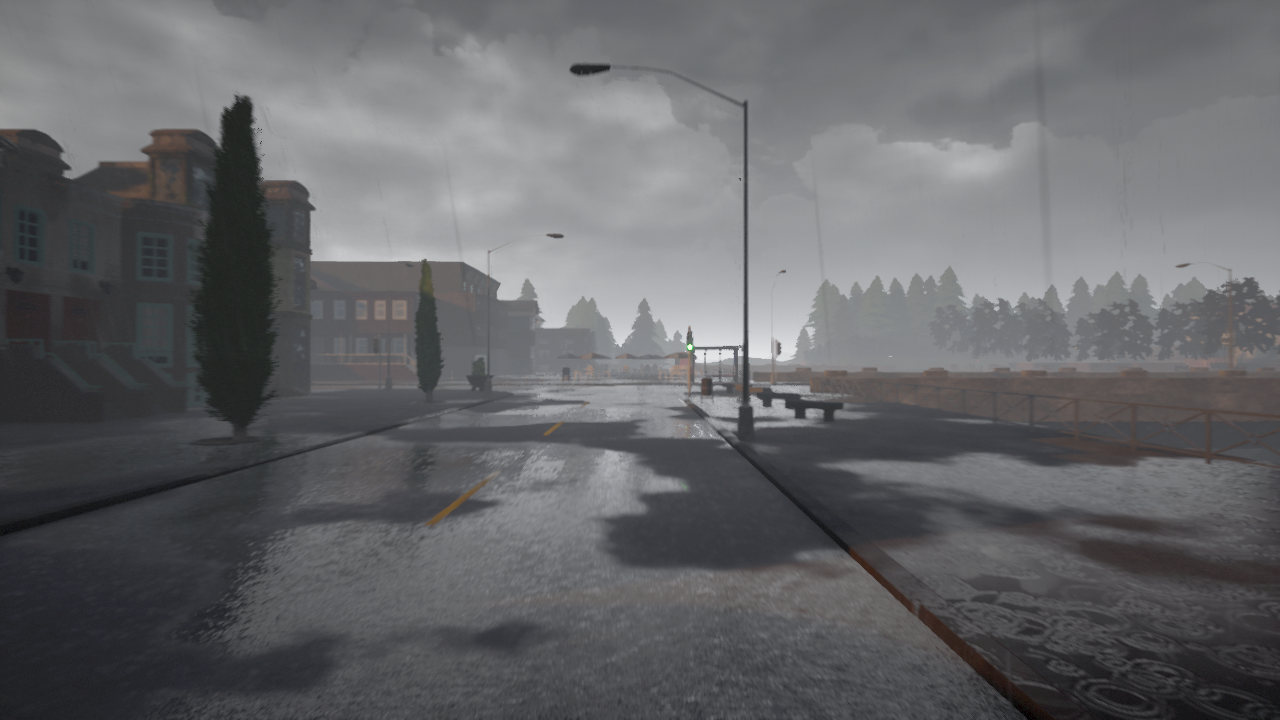green: (686, 331, 694, 351)
